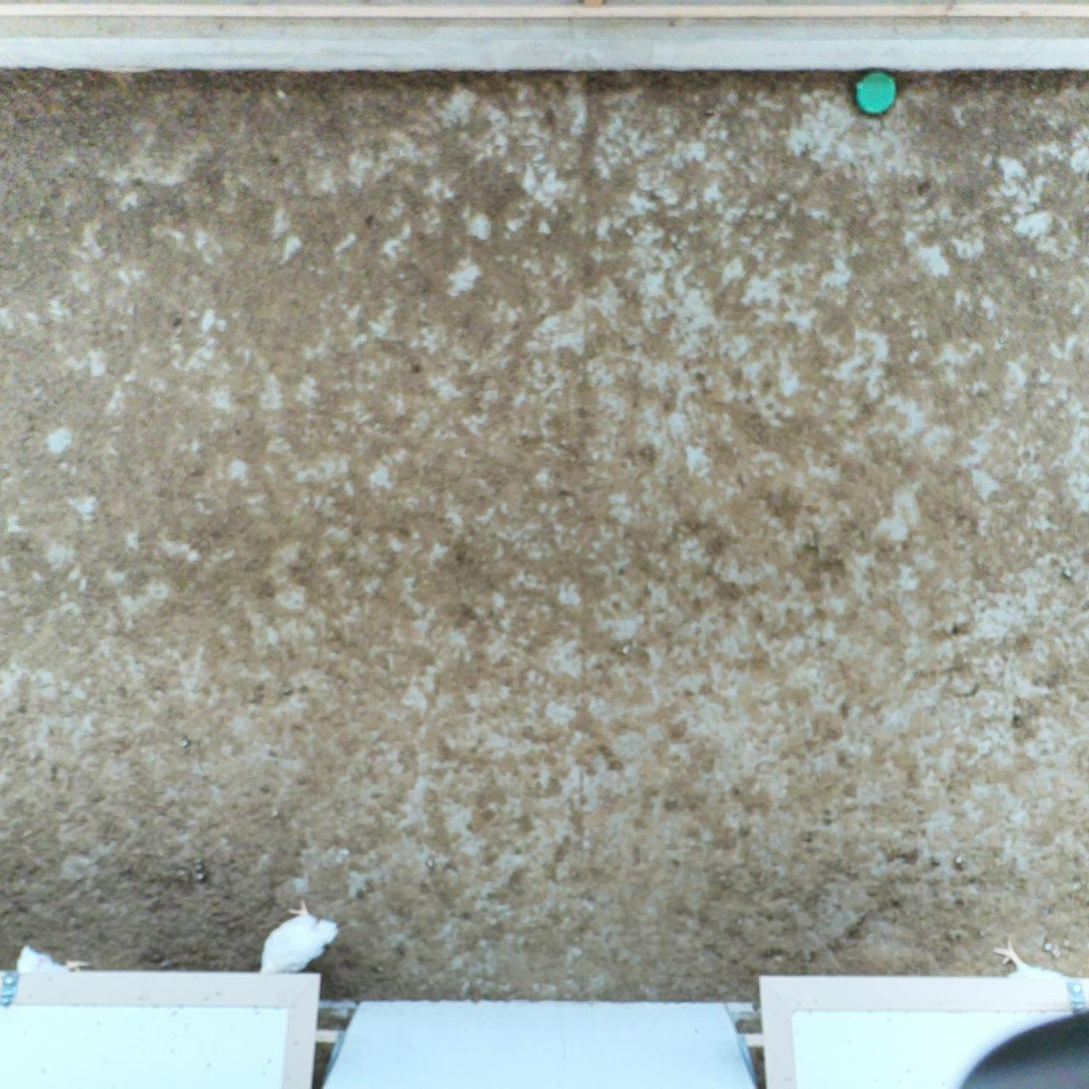chicken: (236, 894, 341, 978)
